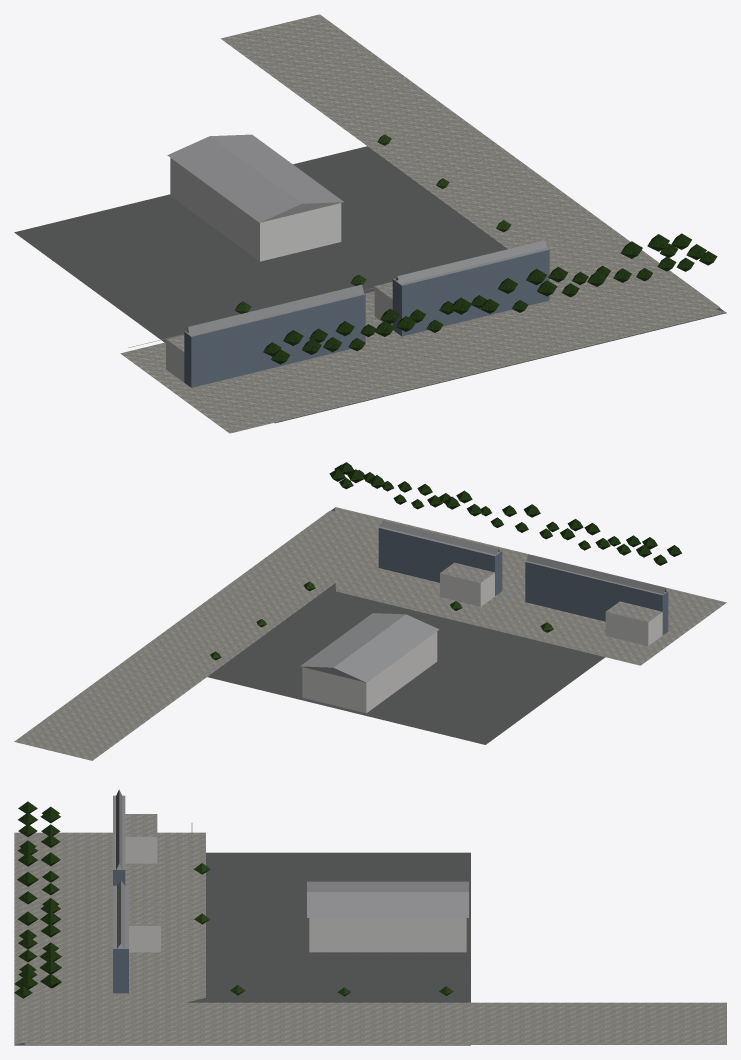
Rendered from cidade_S07_00_lod.gltf.
3 views of the same model, one above another, from view 1: azimuth 30°, elevation 25°; view 2: azimuth 150°, elevation 25°; view 3: azimuth 270°, elevation 25° (orthographic). The views are drawn at different scales.
Parts seen in each view (by area): view 1: S07_00_Chao_LOD2, S07_00_Edificios_LOD1, S07_00_Silhueta_LOD2, S07_00_Vegetacao_LOD2; view 2: S07_00_Chao_LOD2, S07_00_Edificios_LOD1, S07_00_Vegetacao_LOD2, S07_00_Silhueta_LOD2; view 3: S07_00_Chao_LOD2, S07_00_Edificios_LOD1, S07_00_Vegetacao_LOD2, S07_00_Silhueta_LOD2.
Part boxes in pixels (x1,y1,x2,y2): S07_00_Chao_LOD2: [14, 14, 726, 433]; S07_00_Edificios_LOD1: [128, 134, 549, 387]; S07_00_Silhueta_LOD2: [184, 248, 549, 387]; S07_00_Vegetacao_LOD2: [234, 134, 717, 364]; S07_00_Chao_LOD2: [14, 507, 726, 760]; S07_00_Edificios_LOD1: [300, 520, 668, 713]; S07_00_Vegetacao_LOD2: [210, 462, 681, 660]; S07_00_Silhueta_LOD2: [378, 526, 668, 634]; S07_00_Chao_LOD2: [14, 832, 726, 1045]; S07_00_Edificios_LOD1: [113, 789, 468, 993]; S07_00_Vegetacao_LOD2: [14, 801, 453, 998]; S07_00_Silhueta_LOD2: [113, 795, 128, 993].
Size of the model in its own units: 110 by 15.97 by 156.
Materials: 8 (8 with a texture image).
